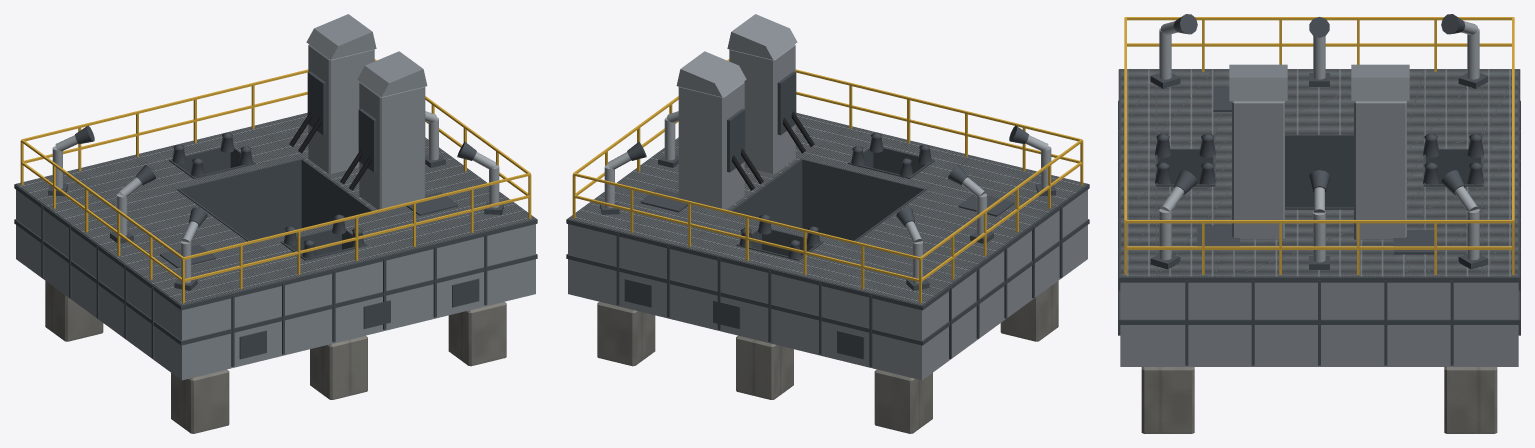
Rendered from mlp_shuttle.glb.
3 renders of one model, left to right at view 1: azimuth 30°, elevation 25°; view 2: azimuth 150°, elevation 25°; view 3: azimuth 270°, elevation 25°, orthographic. The views are drawn at different scales.
Parts seen in each view (by area): view 1: mlp_shuttle, tsm, pedestals, rainbirds, posts; view 2: mlp_shuttle, tsm, pedestals, rainbirds, posts; view 3: mlp_shuttle, tsm, rainbirds, pedestals, posts.
Boxes of the visible parts, bbox=[...] form: mlp_shuttle: bbox=[14, 59, 537, 380]; tsm: bbox=[289, 14, 427, 209]; pedestals: bbox=[45, 281, 506, 433]; rainbirds: bbox=[48, 111, 503, 290]; posts: bbox=[172, 133, 364, 259]; mlp_shuttle: bbox=[566, 59, 1089, 380]; tsm: bbox=[676, 14, 814, 209]; pedestals: bbox=[597, 281, 1058, 433]; rainbirds: bbox=[600, 111, 1055, 290]; posts: bbox=[739, 133, 931, 259]; mlp_shuttle: bbox=[1118, 17, 1520, 366]; tsm: bbox=[1229, 64, 1409, 239]; rainbirds: bbox=[1150, 14, 1488, 269]; pedestals: bbox=[1141, 367, 1497, 433]; posts: bbox=[1155, 134, 1483, 184].
Bounding box in the file's own units: 9.34 × 6.83 × 7.59.
Materials: 7 (2 with a texture image).
